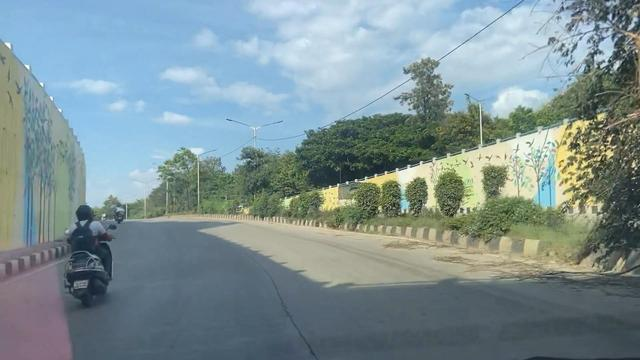LMV: (60, 203, 116, 298)
RoadDamages: (254, 263, 322, 360)
